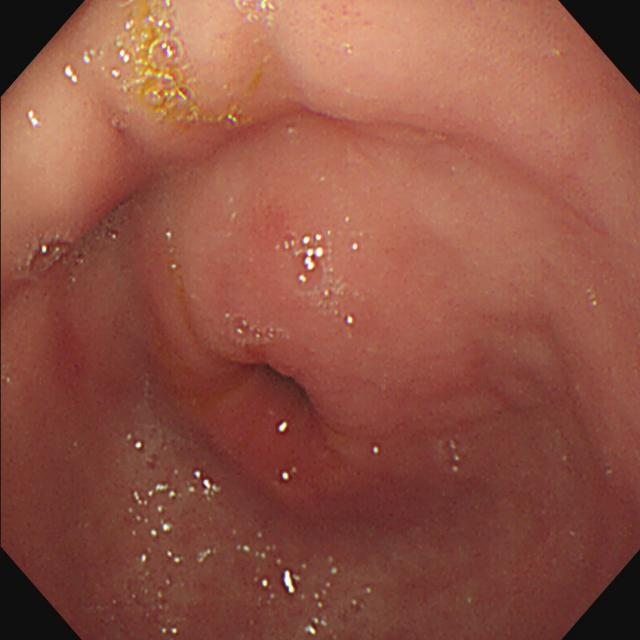J: (127, 2, 244, 128), (129, 485, 179, 538), (304, 582, 331, 635), (191, 471, 222, 501)
T: (231, 316, 280, 346)
U: (299, 233, 325, 285), (64, 66, 79, 87), (284, 571, 296, 596), (28, 109, 41, 129), (279, 422, 290, 433)
